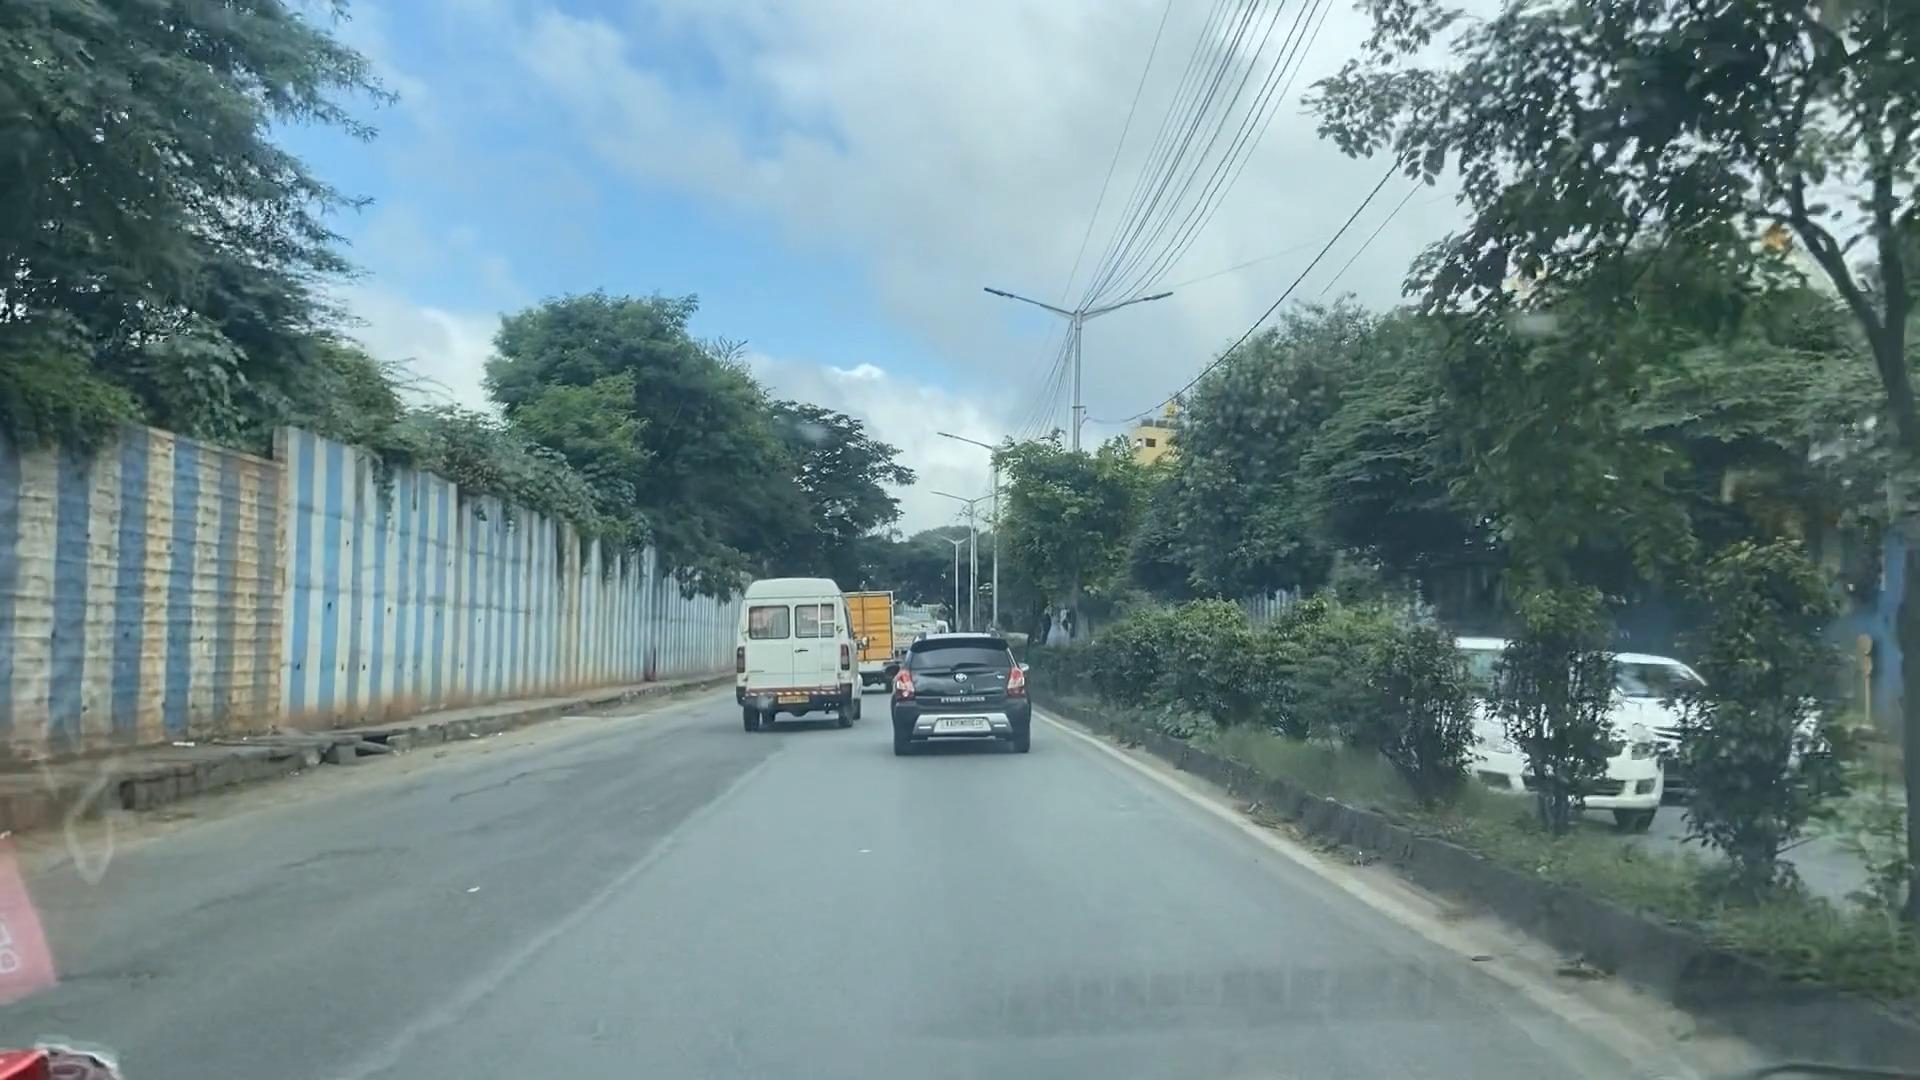HMV: (731, 582, 855, 719)
LMV: (893, 642, 1026, 750)
